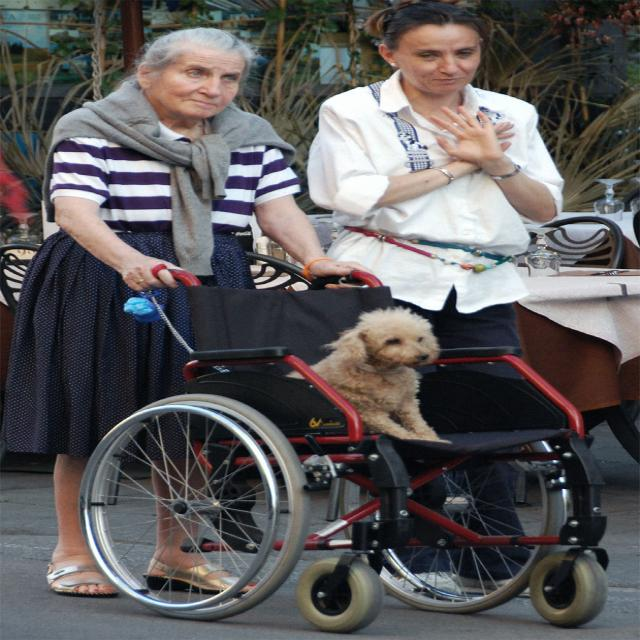wheelchairs: (85, 263, 615, 632)
